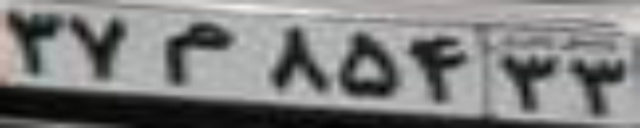3: (494, 53, 558, 112), (5, 11, 60, 76), (570, 55, 629, 115)
4: (409, 35, 469, 103)
5: (330, 32, 397, 95)
7: (65, 13, 131, 83)
8: (264, 25, 327, 91)
mim: (162, 21, 233, 85)
